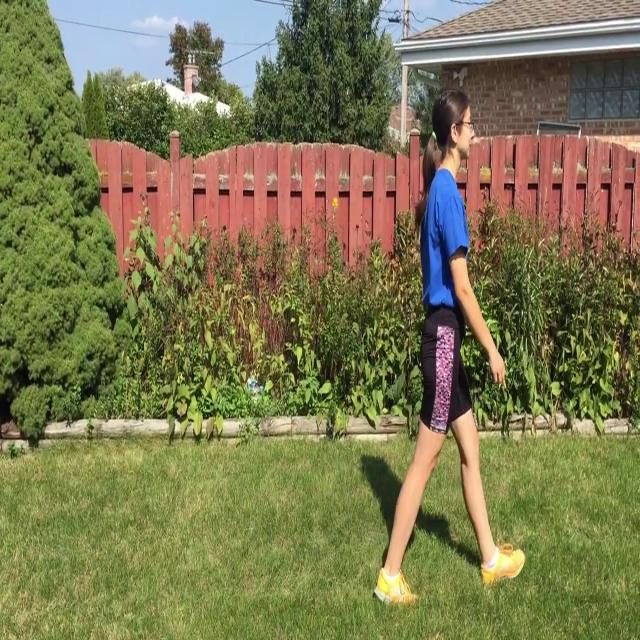normal: (378, 79, 522, 609)
